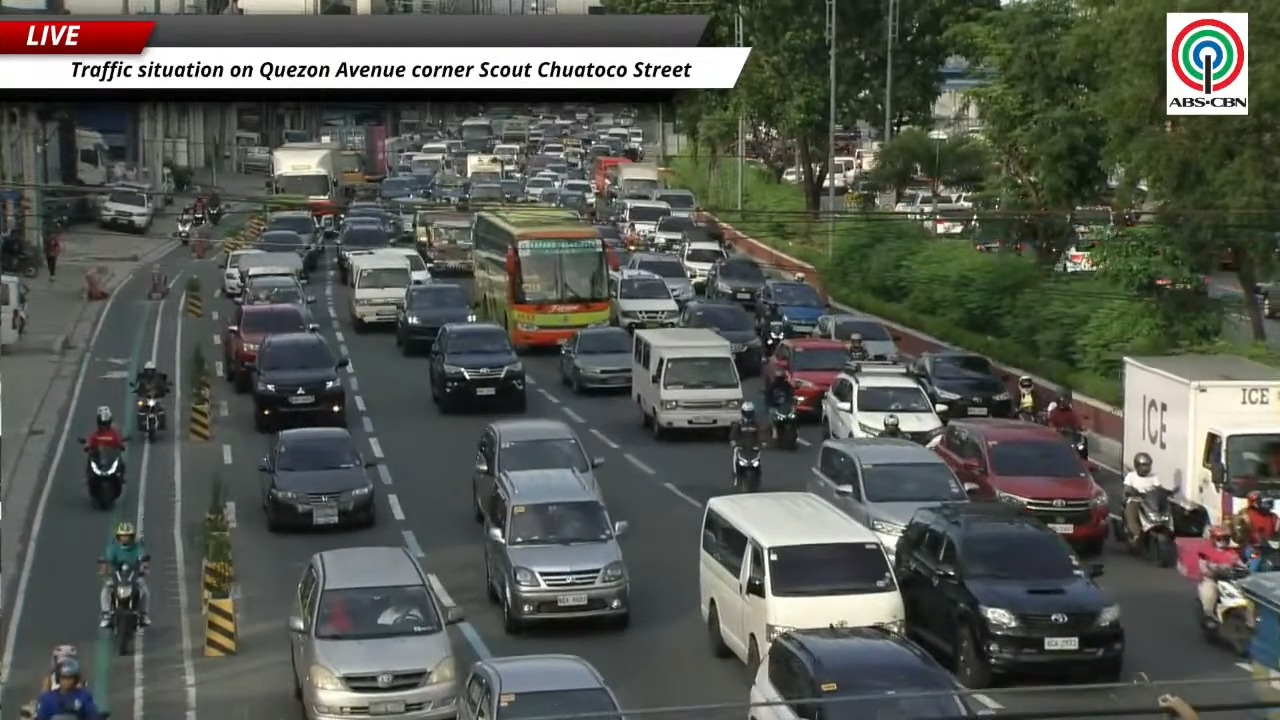bus: (472, 207, 609, 349), (459, 117, 495, 152)
car: (894, 502, 1124, 689), (288, 546, 462, 719), (480, 469, 629, 633), (932, 419, 1109, 554), (749, 627, 994, 719), (806, 437, 968, 555), (472, 418, 603, 520), (259, 427, 375, 531), (458, 654, 621, 719), (246, 329, 349, 431), (821, 361, 946, 444), (429, 322, 526, 412), (222, 304, 309, 392), (909, 352, 1013, 418), (762, 338, 848, 415), (678, 299, 763, 375), (396, 282, 476, 355), (559, 327, 631, 393), (609, 269, 679, 331), (754, 280, 828, 335), (813, 314, 901, 360), (336, 218, 391, 283), (623, 252, 693, 302), (264, 211, 322, 269), (678, 228, 726, 293), (706, 257, 767, 307), (256, 230, 313, 278), (99, 184, 153, 233), (371, 245, 432, 285), (238, 275, 313, 305), (343, 203, 402, 237), (222, 249, 261, 297), (651, 215, 693, 251), (1056, 240, 1098, 273), (651, 189, 696, 218), (379, 177, 419, 200), (468, 183, 505, 203)
motorcycle: (1195, 566, 1253, 656), (1113, 486, 1176, 567), (108, 563, 140, 655), (86, 446, 124, 509), (0, 237, 39, 277), (733, 442, 761, 492), (770, 400, 797, 450), (137, 392, 162, 441), (1059, 427, 1088, 460), (763, 321, 785, 356), (175, 214, 192, 244), (208, 204, 224, 225), (192, 209, 208, 227), (1016, 408, 1036, 422), (51, 713, 79, 719)
truck: (1123, 354, 1279, 523), (270, 143, 342, 233), (337, 125, 386, 185), (617, 164, 663, 196), (467, 154, 501, 184)
